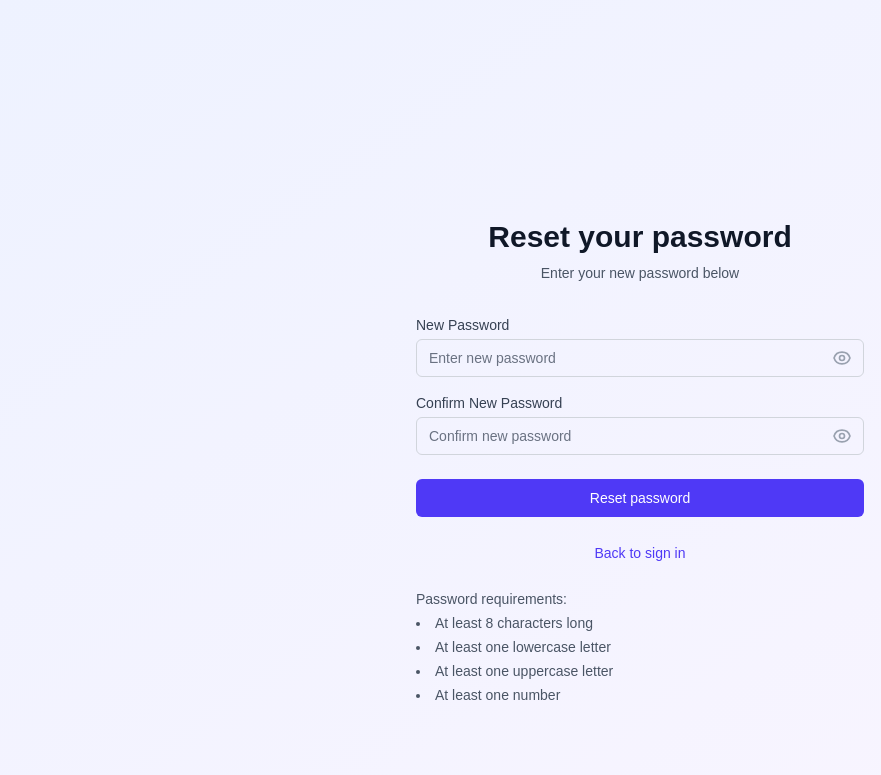
Test: ResetPasswordForm › handles network error during password reset
Type "StrongPassword123!" into the password field labelled "New Password".
click(640, 358); type("StrongPassword123!")  # box left=416, top=339, right=864, bottom=377
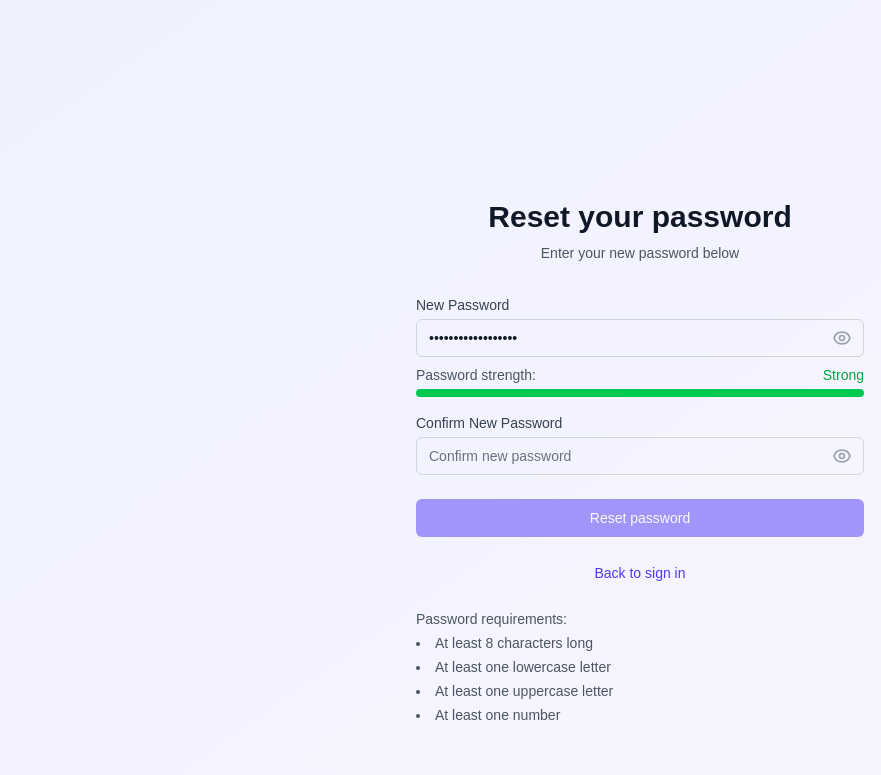
Type "StrongPassword123!" into the password field labelled "Confirm New Password".
click(640, 456); type("StrongPassword123!")  # box left=416, top=437, right=864, bottom=475
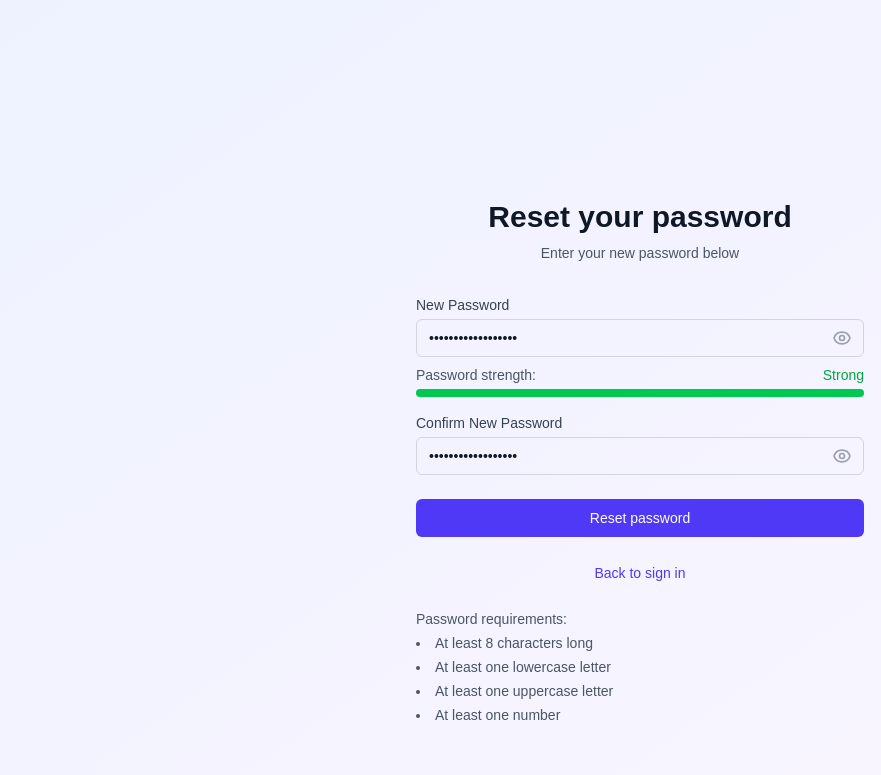
Click the button "Reset password".
click(640, 518)  # box left=416, top=499, right=864, bottom=537
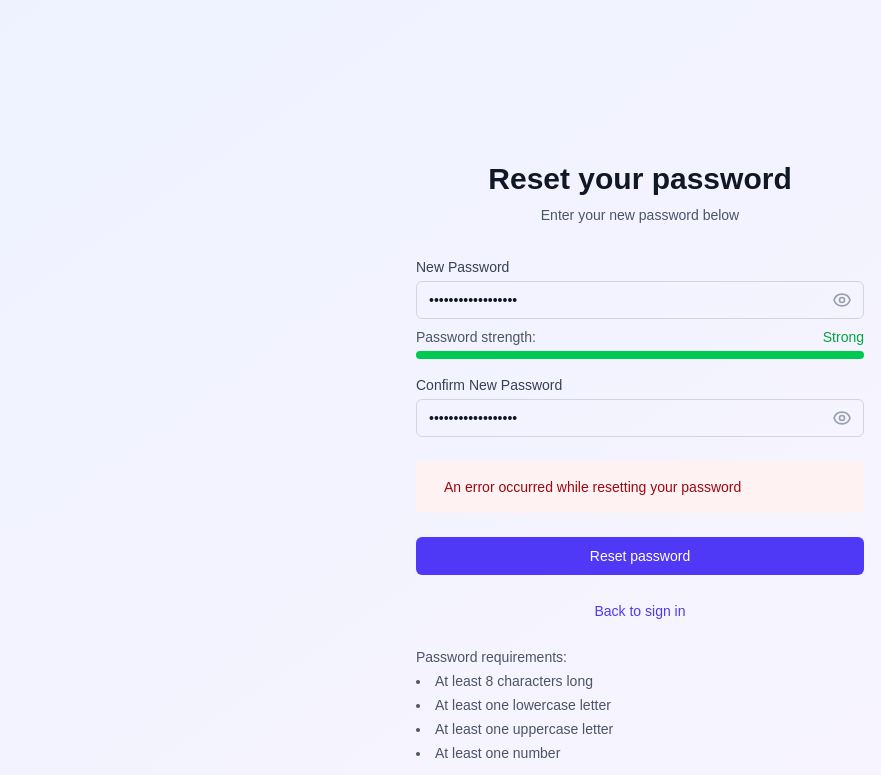
expect the text "An error occurred while resetting your password" is shown: met, box left=444, top=477, right=741, bottom=497
